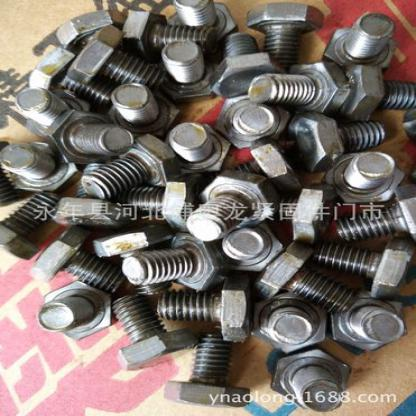FOD: (254, 237, 358, 315), (155, 275, 253, 347), (186, 171, 279, 243), (75, 135, 178, 200), (163, 334, 252, 409), (270, 347, 356, 414), (36, 280, 116, 341)
